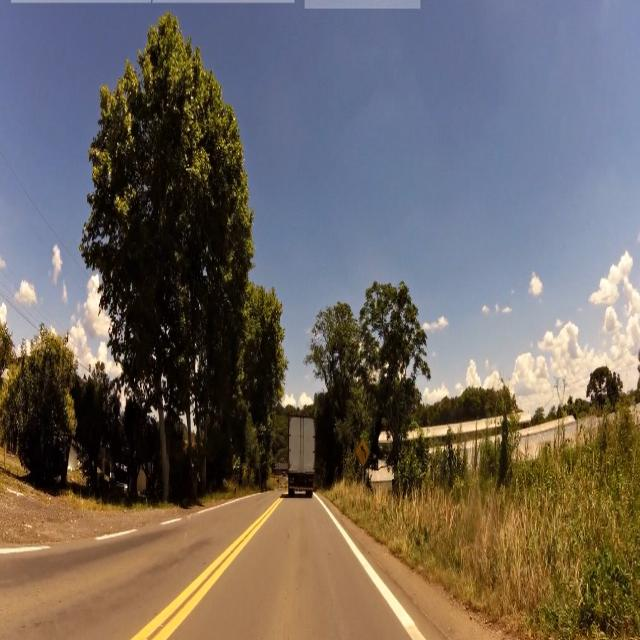A-2a: (356, 437, 370, 468)
